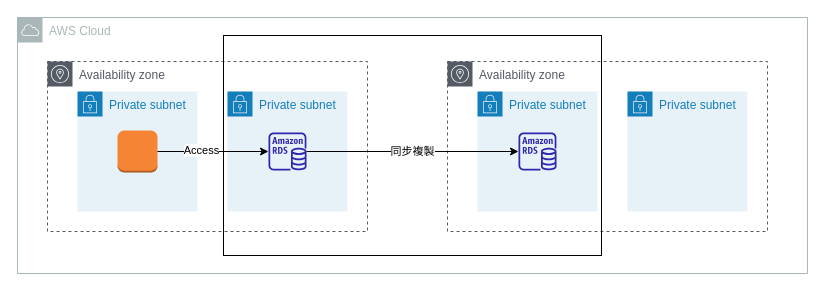
Image size: 825x291. Some labels were removed from this diagram. Here are the shapes that lost their labels. From the top down, the centre of each, then its label:
At [137,151]: "EC2 Instance".
At [287,151]: "Master DB".
At [412,145]: "Subnet group".
At [537,151]: "Standby DB".
